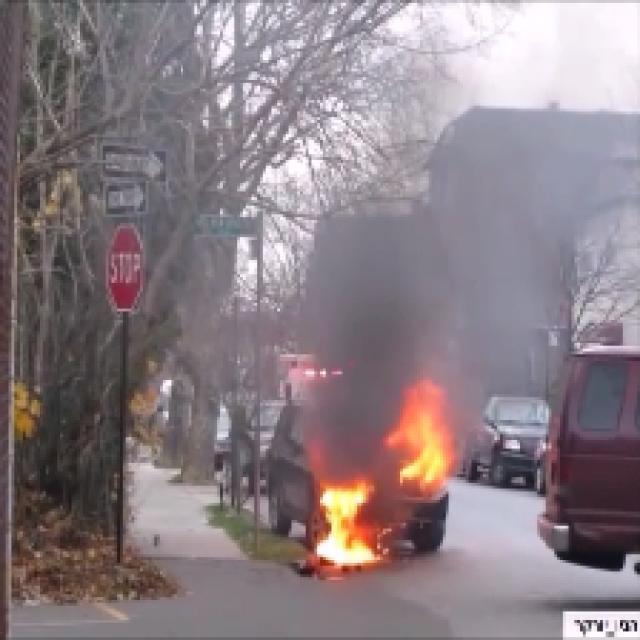Fire: (394, 380, 454, 492), (320, 479, 384, 581)
Smoke: (307, 66, 583, 370)
